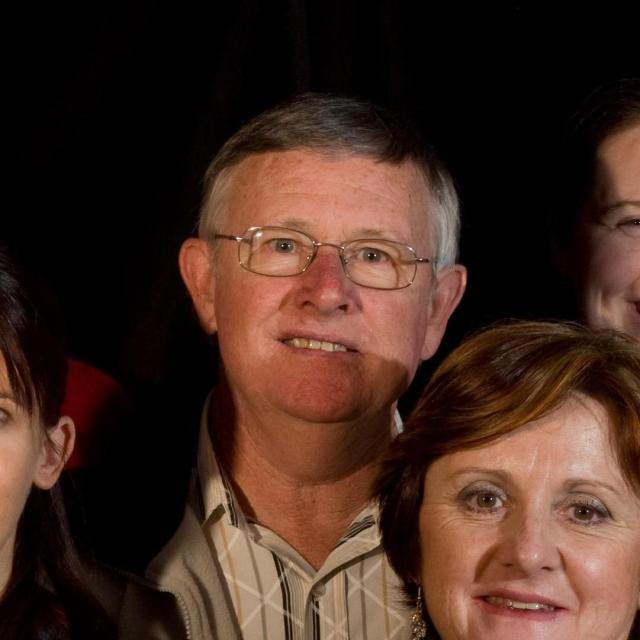no-glass: (461, 481, 612, 533), (261, 232, 395, 268)
